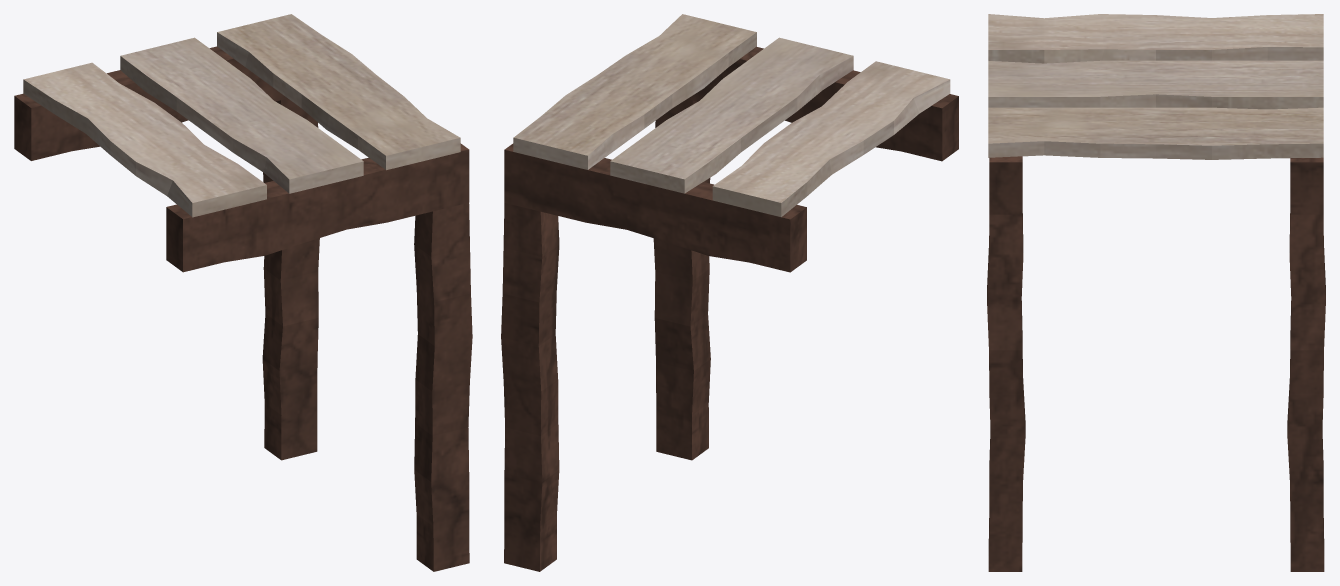
File: Wooden platform4.glb
3 renders of one model, left to right at view 1: azimuth 30°, elevation 25°; view 2: azimuth 150°, elevation 25°; view 3: azimuth 270°, elevation 25°, orthographic.
Parts seen in each view (by area): view 1: Cube.015, Cube.017, Cube.016; view 2: Cube.015, Cube.017, Cube.016; view 3: Cube.015, Cube.017, Cube.016.
Part boxes in pixels (bbox=[...]): Cube.015: bbox=[23, 14, 460, 217]; Cube.017: bbox=[262, 98, 472, 571]; Cube.016: bbox=[14, 46, 469, 272]; Cube.015: bbox=[513, 14, 950, 217]; Cube.017: bbox=[501, 99, 710, 571]; Cube.016: bbox=[504, 46, 958, 272]; Cube.015: bbox=[988, 14, 1323, 159]; Cube.017: bbox=[987, 213, 1325, 571]; Cube.016: bbox=[989, 156, 1323, 214].
Size of the model in its own units: 5.1 by 7.2 by 5.21.
1 material, 1 textured.
